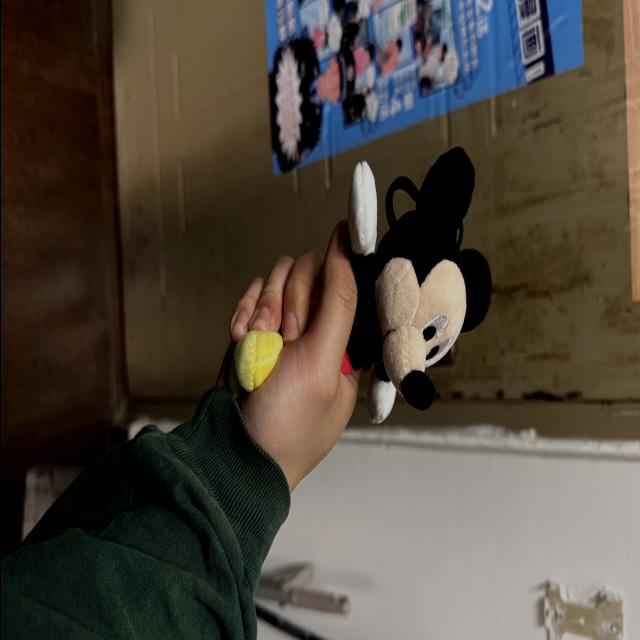mickey: (341, 149, 490, 423)
